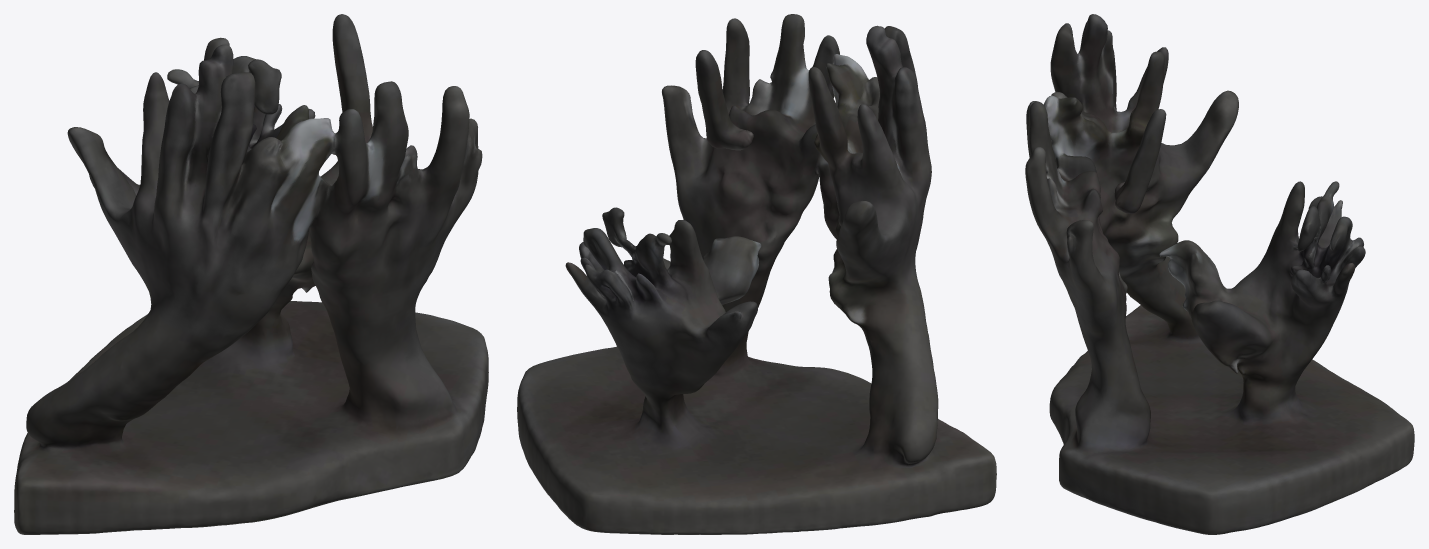
The model's file is a9ab5adce185_hands_sculpture__3d.fbx.
3 views of the same model, side by side, from view 1: azimuth 30°, elevation 25°; view 2: azimuth 150°, elevation 25°; view 3: azimuth 270°, elevation 25° (orthographic). The views are drawn at different scales.
Visible parts, largest first — view 1: high_poly; view 2: high_poly; view 3: high_poly.
Part boxes in pixels (left/top/right/bottom): high_poly: left=14, top=14, right=488, bottom=534; high_poly: left=517, top=14, right=996, bottom=534; high_poly: left=1025, top=14, right=1414, bottom=534.
Size of the model in its own units: 100 by 91.14 by 81.22.
